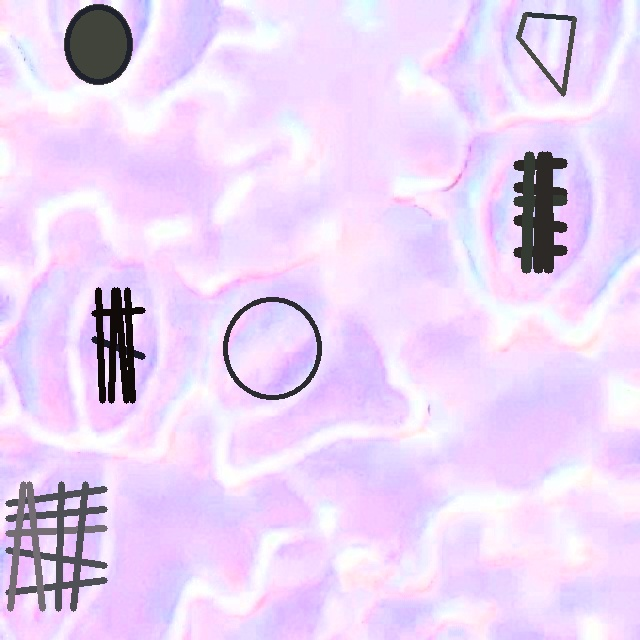close: (91, 287, 145, 403)
open: (5, 481, 107, 610), (222, 297, 323, 398), (514, 151, 566, 273), (64, 4, 132, 84), (516, 12, 576, 95)
